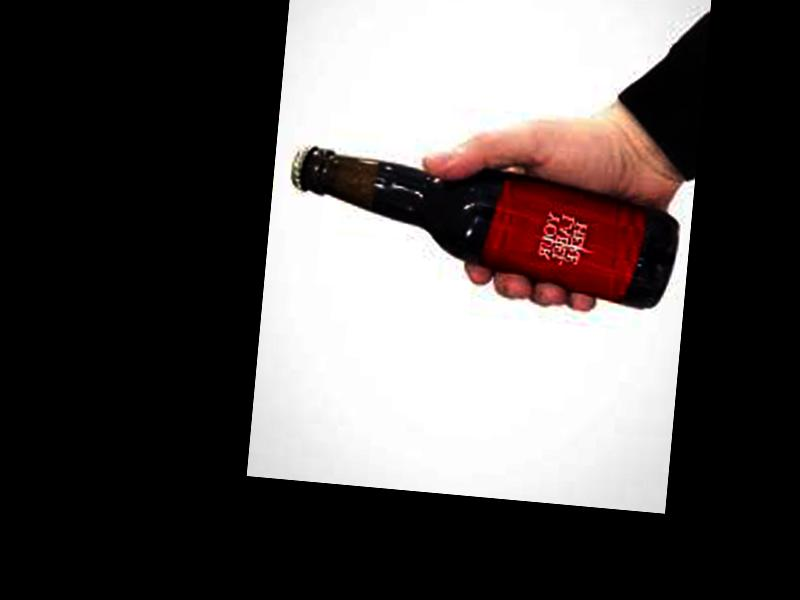Beer: (280, 141, 682, 312)
